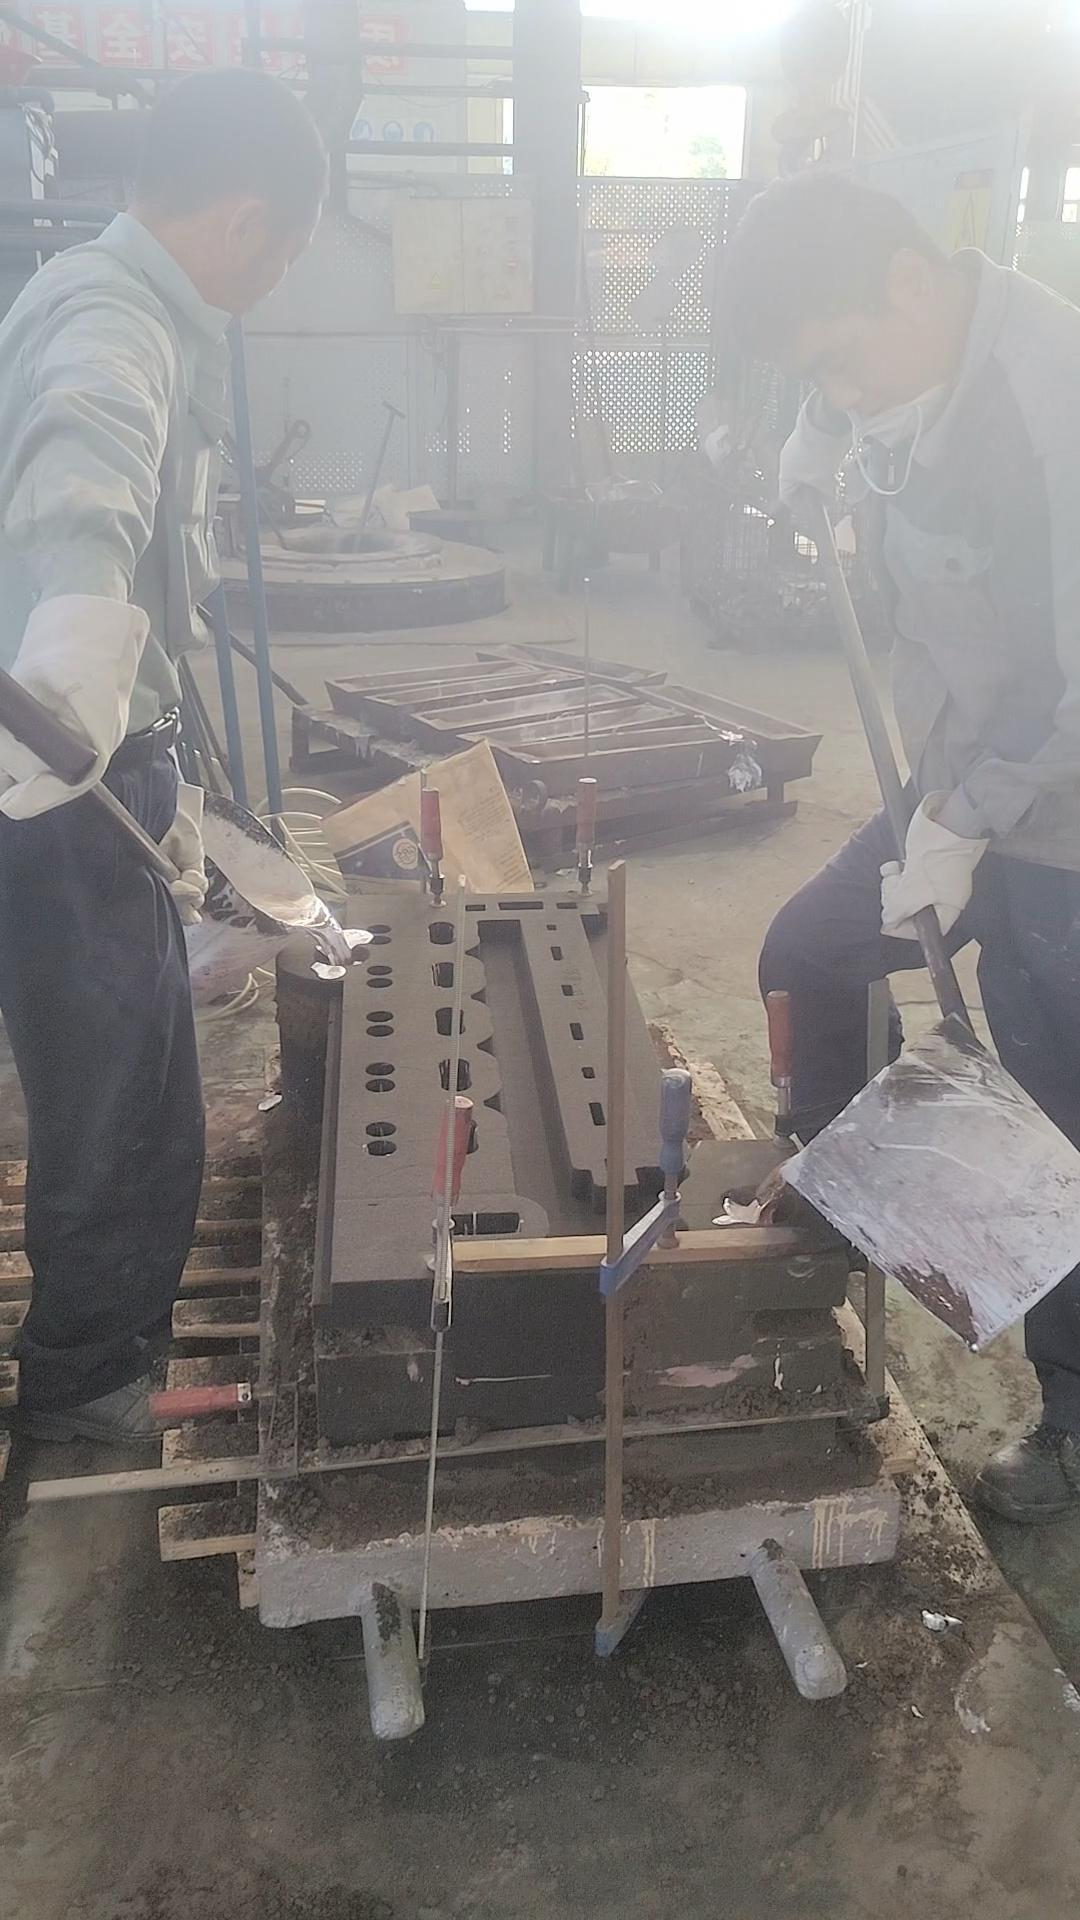pouring hole: (717, 1184, 799, 1226), (313, 944, 371, 968)
